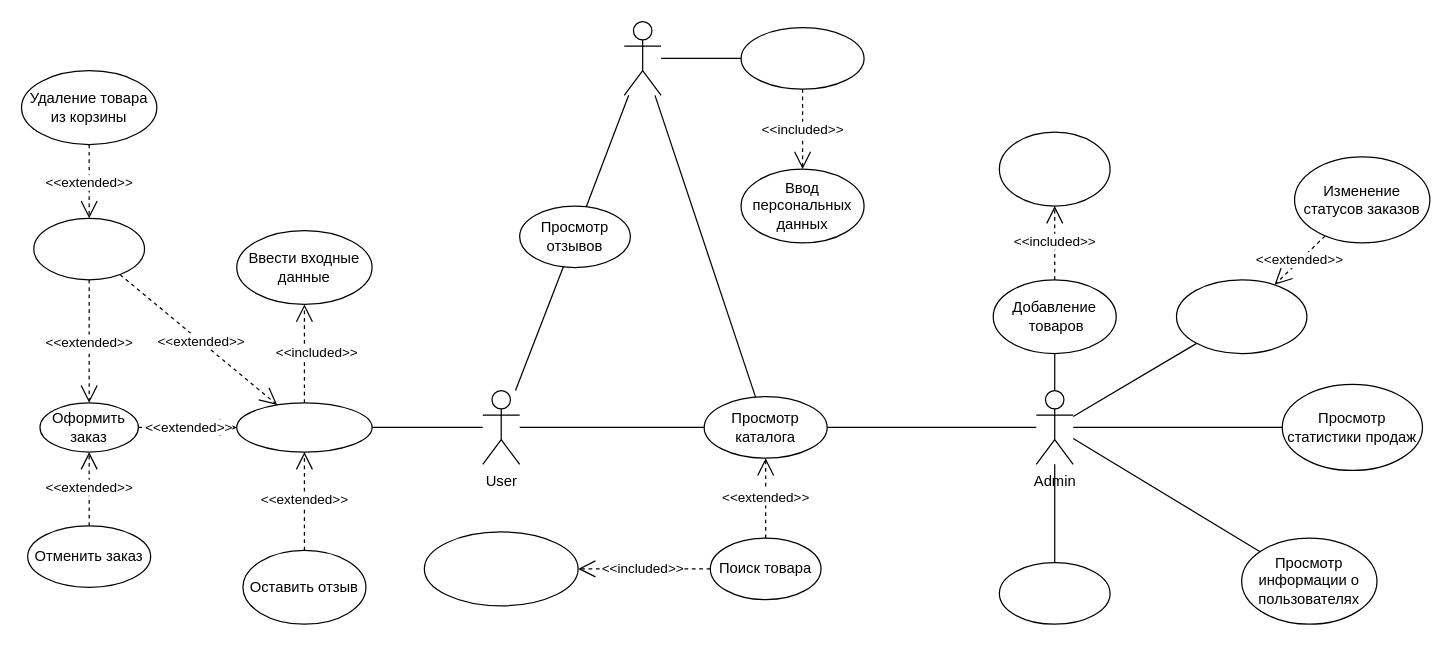
The diagram is 1451 pixels wide and 646 high, and some of its shapes have lost their labels. The shapes that lost their labels are listed below. From the top down, each one's centre as x and y in pixels, then its label:
At point 642,57: "Guest".
At point 802,57: "Создание нового аккаунта".
At point 1054,168: "Ввести информацию о товаре".
At point 89,248: "Добавление в корзину".
At point 1241,316: "Просмотр информации о заказах".
At point 304,427: "Войти в аккаунт".
At point 500,568: "Фильтрация по категориям и брендам".
At point 1054,592: "Изменение информации о товаре".
